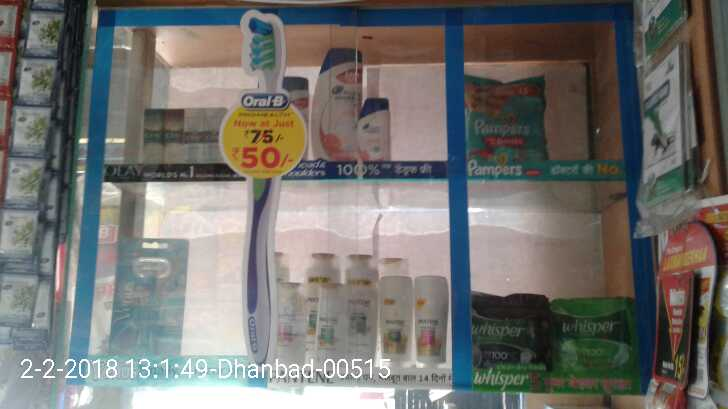venus: (115, 239, 184, 350)
